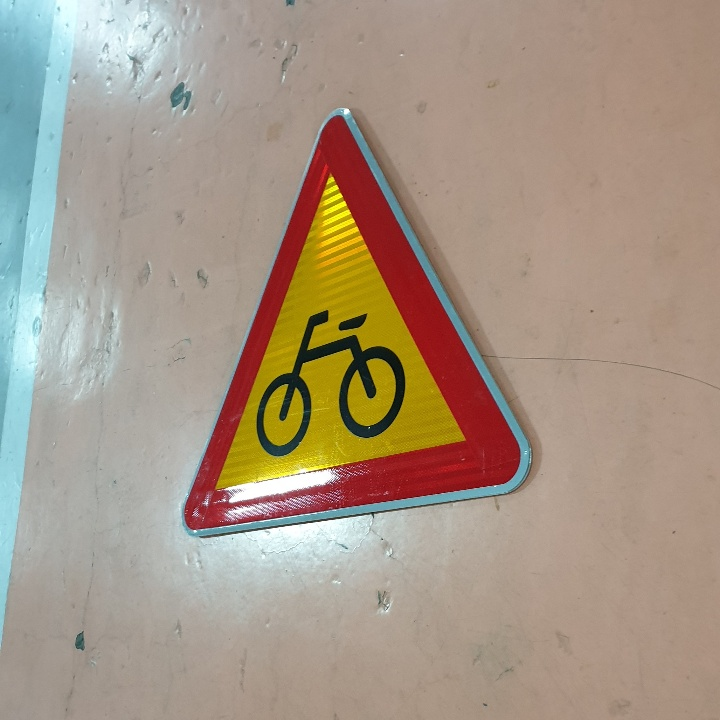bicycle: (173, 108, 532, 536)
